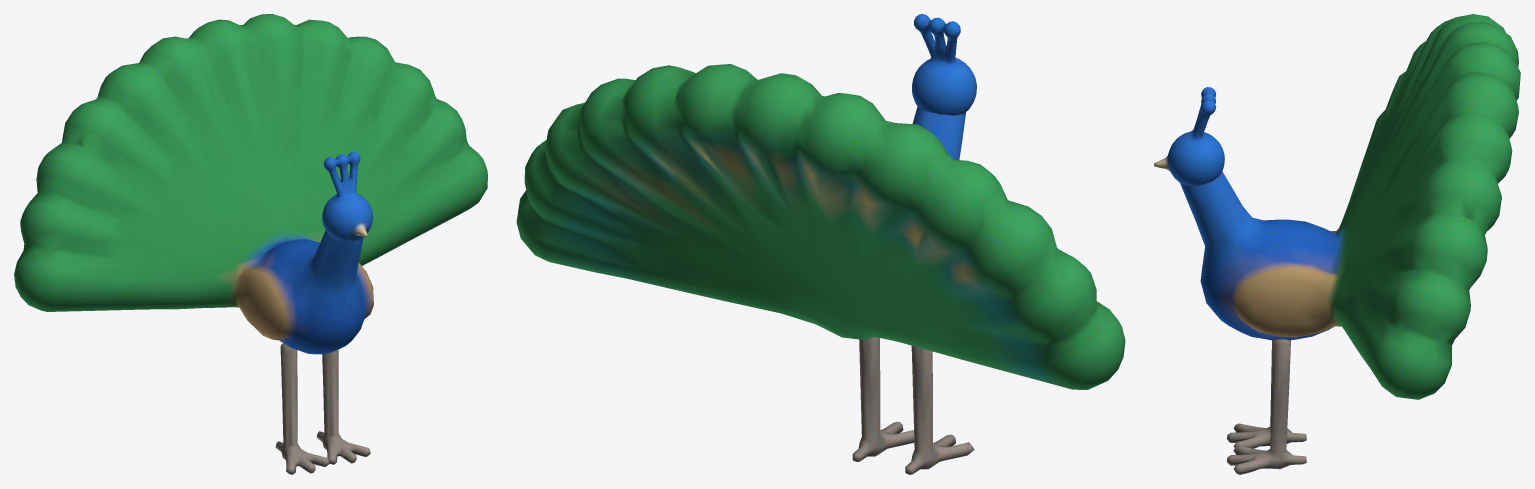
Rendered from animal_peacock.glb.
The picture shows the model from 3 angles, left to right: view 1: azimuth 30°, elevation 25°; view 2: azimuth 150°, elevation 25°; view 3: azimuth 270°, elevation 25°; orthographic projection. The views are drawn at different scales.
Visible parts, largest first — view 1: animal_peacock, head, leg0, leg1; view 2: animal_peacock, head, leg0, leg1; view 3: animal_peacock, leg1, head, leg0.
Boxes of the visible parts, x1,y1,x2,y2 form: animal_peacock: (14,14,487,354); head: (322,151,372,241); leg0: (275,343,329,474); leg1: (316,349,370,464); animal_peacock: (516,64,1125,389); head: (912,14,976,115); leg0: (905,346,974,474); leg1: (852,337,914,461); animal_peacock: (1180,14,1520,399); leg1: (1227,339,1306,474); head: (1154,87,1224,186); leg0: (1227,340,1306,448).
Size of the model in its own units: 0.6334 by 0.4771 by 0.3859.
Materials: 1 (1 with a texture image).
